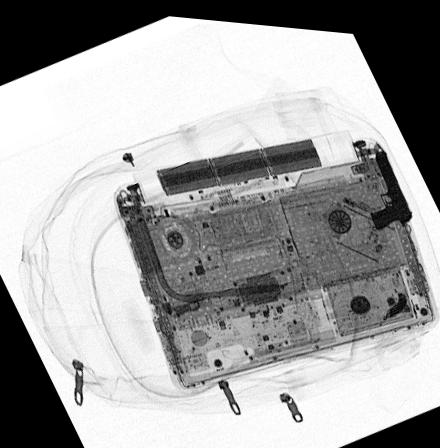Gun: (367, 143, 412, 221)
